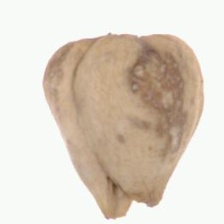L1: (95, 175, 160, 218), (70, 31, 172, 44)
L2: (40, 33, 205, 219)
